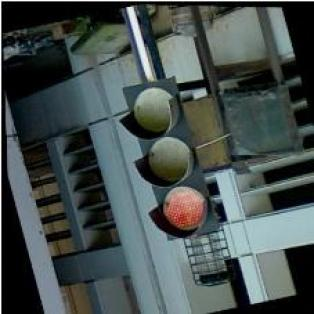Semaforo Rojo: (116, 72, 217, 242)
